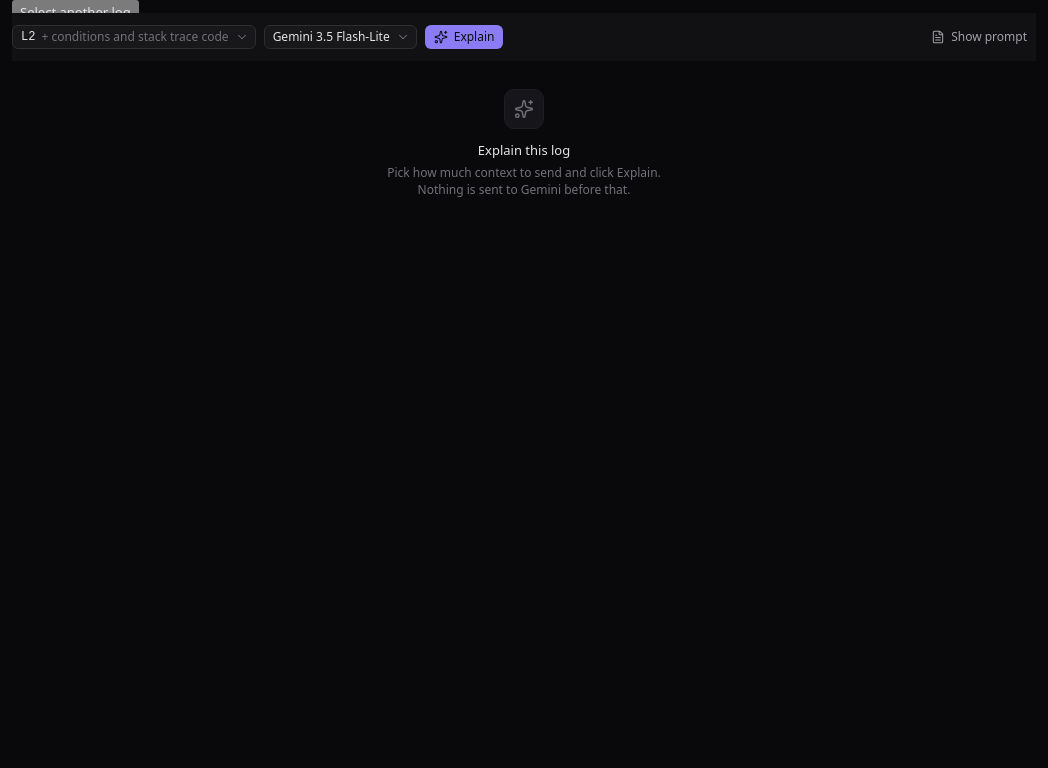
explain tab › warns when the answer was cut off (MAX_TOKENS)
Click the button "Explain" at x=464, y=37, box x1=425 y1=25 x2=504 y2=49
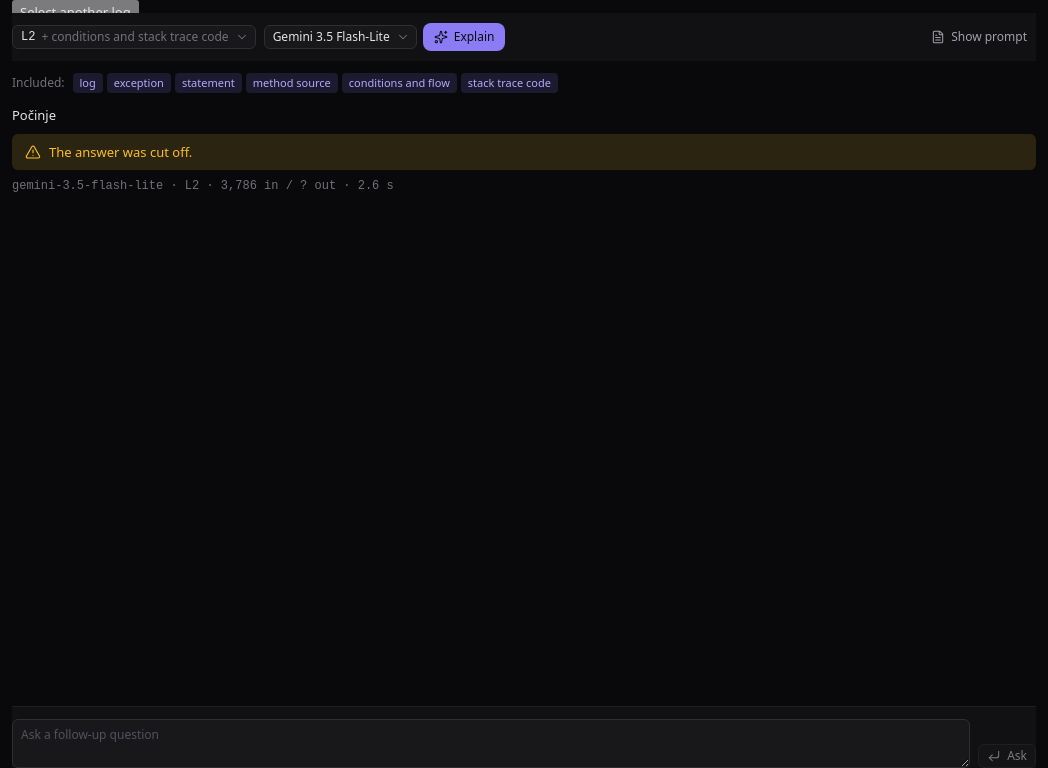
Expected: the text "The answer was cut off." is shown, x1=49 y1=143 x2=192 y2=161
Expected: the text "gemini-3.5-flash-lite · L2 · 3,786 in / ? out · 2.6 s" is shown, x1=12 y1=180 x2=394 y2=194
